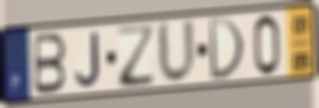0: (252, 13, 282, 78)
B: (32, 32, 68, 97)
D: (206, 16, 246, 82)
J: (73, 30, 102, 89)
U: (155, 16, 198, 87)
Z: (114, 22, 157, 90)
